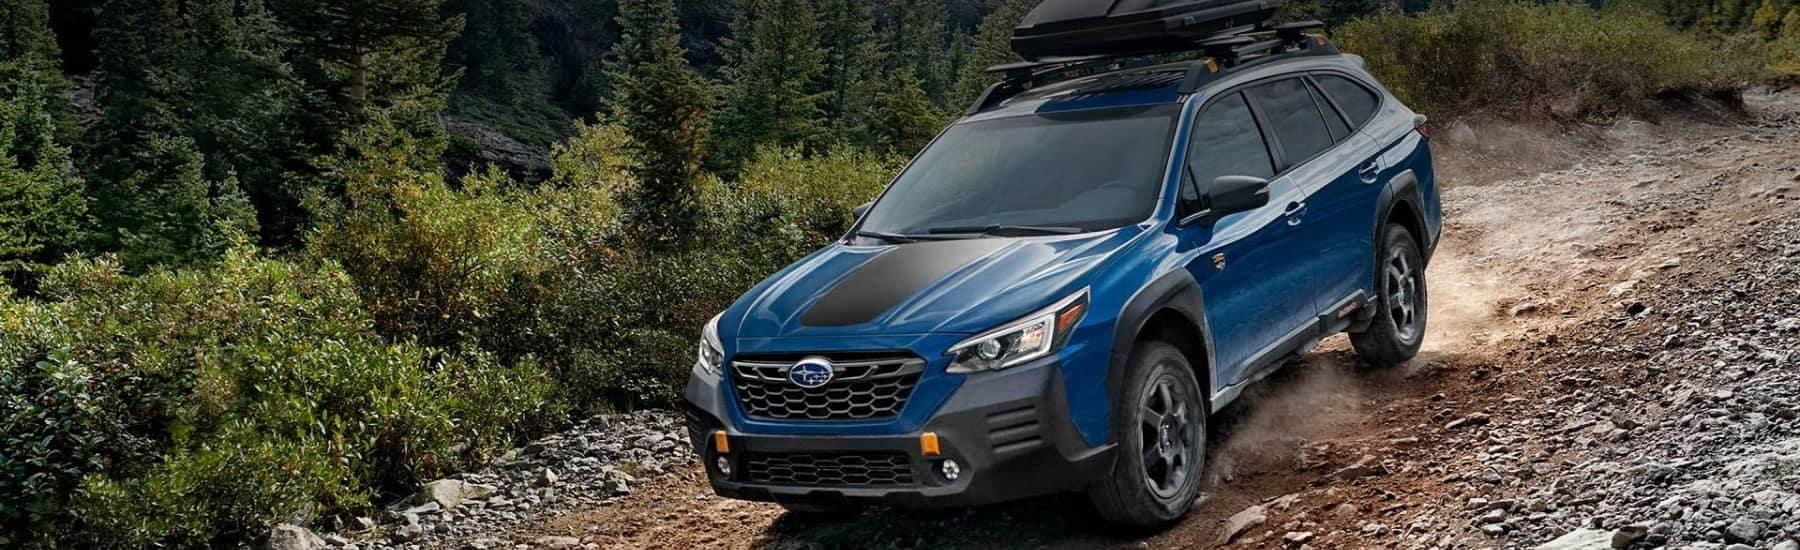subaru: (775, 347, 848, 401)
